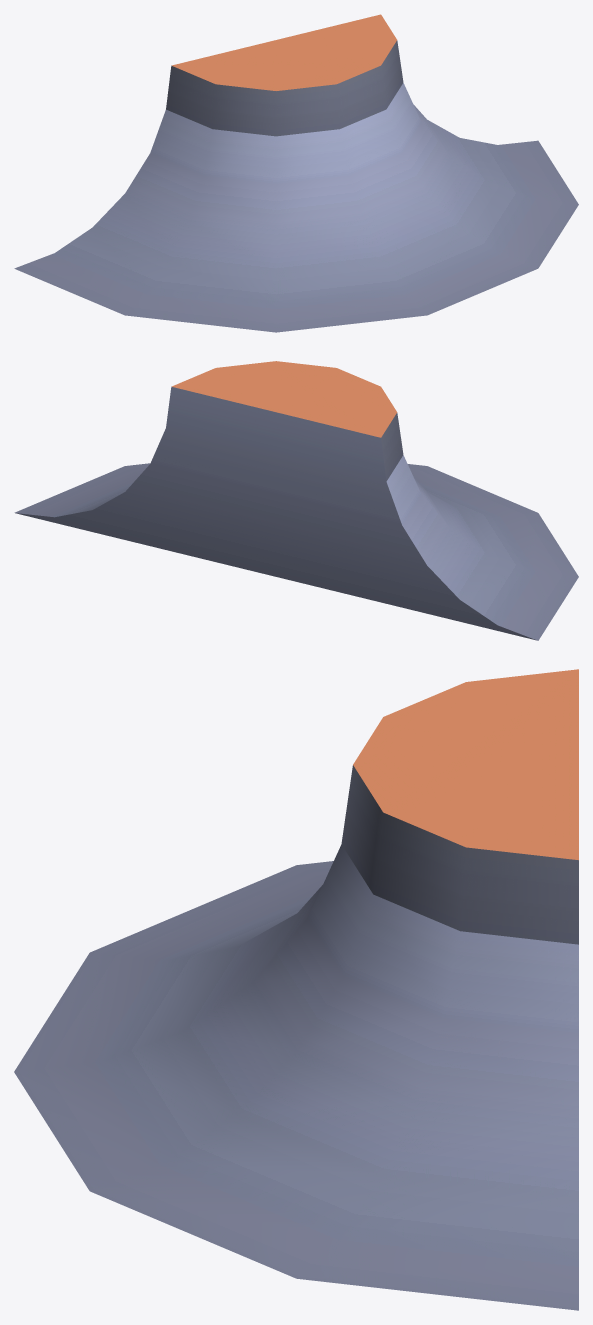
File: obstacle-end-transformed.glb
The picture shows the model from 3 angles, top to bottom: view 1: azimuth 30°, elevation 25°; view 2: azimuth 150°, elevation 25°; view 3: azimuth 270°, elevation 25°; orthographic projection. The views are drawn at different scales.
Visible parts, largest first — view 1: obstacle-end; view 2: obstacle-end; view 3: obstacle-end.
Boxes of the visible parts, x1,y1,x2,y2 form: obstacle-end: (14,14,578,332); obstacle-end: (14,361,578,640); obstacle-end: (14,669,578,1310).
Size of the model in its own units: 1 by 0.3 by 0.5.
Materials: 1 (1 with a texture image).
